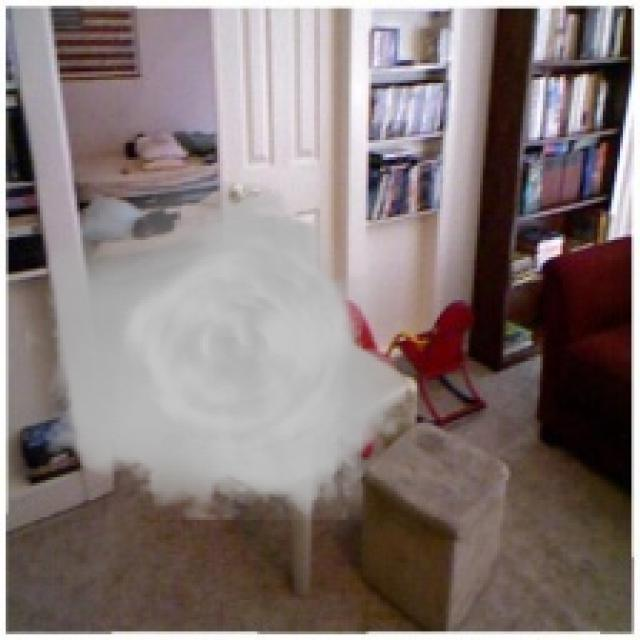Smoke: (26, 177, 420, 520)
